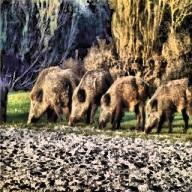boar: (26, 65, 79, 124), (97, 74, 151, 130), (144, 76, 192, 134), (68, 66, 114, 126), (0, 73, 8, 124)
